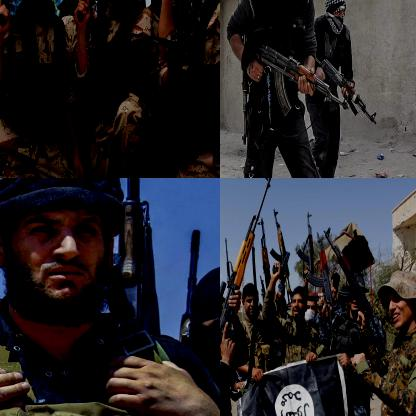rifle: (220, 178, 278, 397), (323, 224, 391, 358), (244, 44, 352, 120), (114, 178, 156, 285), (314, 59, 376, 127), (269, 204, 294, 300), (307, 228, 334, 308), (297, 209, 317, 287), (256, 217, 273, 303)
